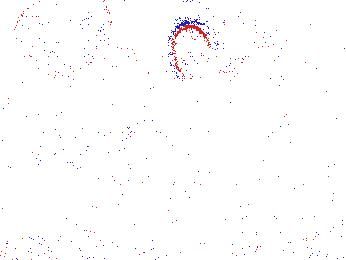moon jellyfish: (66, 48, 145, 148), (13, 1, 113, 79), (200, 15, 264, 74), (168, 22, 223, 87), (258, 10, 310, 75)
